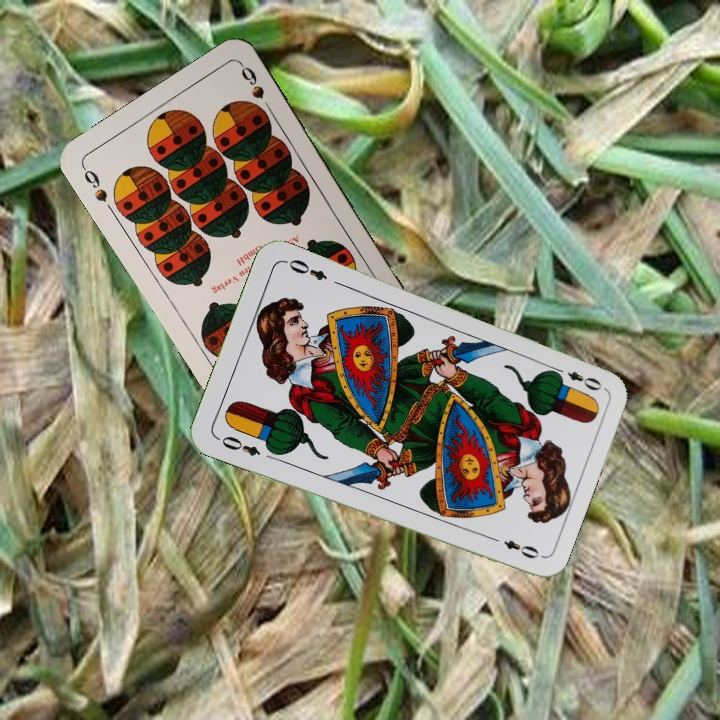EO: (548, 362, 605, 394), (212, 432, 263, 459)
S9: (78, 162, 110, 205)
